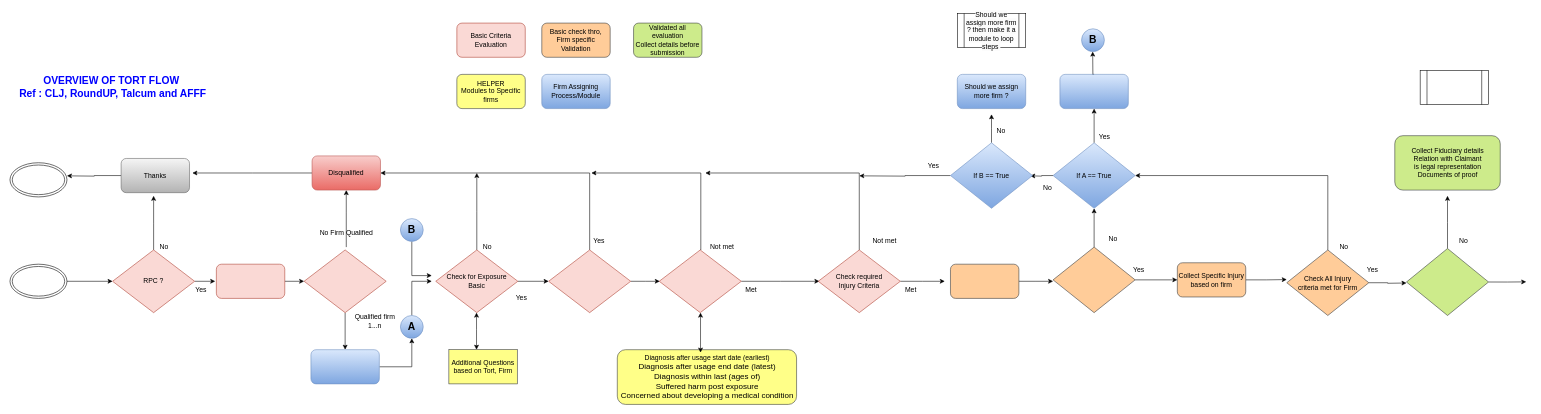
The diagram is 1541 pixels wide and 414 high, and some of its shapes have lost their labels. The shapes that lost their labels are listed below. From the top down, each one's box as (x1, y1, x2, y2) in pixels, then its label:
(1059, 74, 1128, 109): Assign Firm = fallback firm
(9, 162, 67, 197): END
(9, 264, 67, 298): START
(216, 264, 285, 298): Greet and Introduction
(304, 249, 386, 313): Decide Primary firm
(548, 249, 631, 313): Attorney represented you for this matter in the past
(659, 249, 741, 313): Check Basic Diagnosis Criteria
(950, 264, 1019, 298): Collect Specific Exposure based on firm
(1053, 247, 1135, 313): Check All exposure criteria met for Firm
(1406, 248, 1489, 315): is called peson Climant
(310, 349, 379, 384): Assign Primary Firm Fallback Firm
